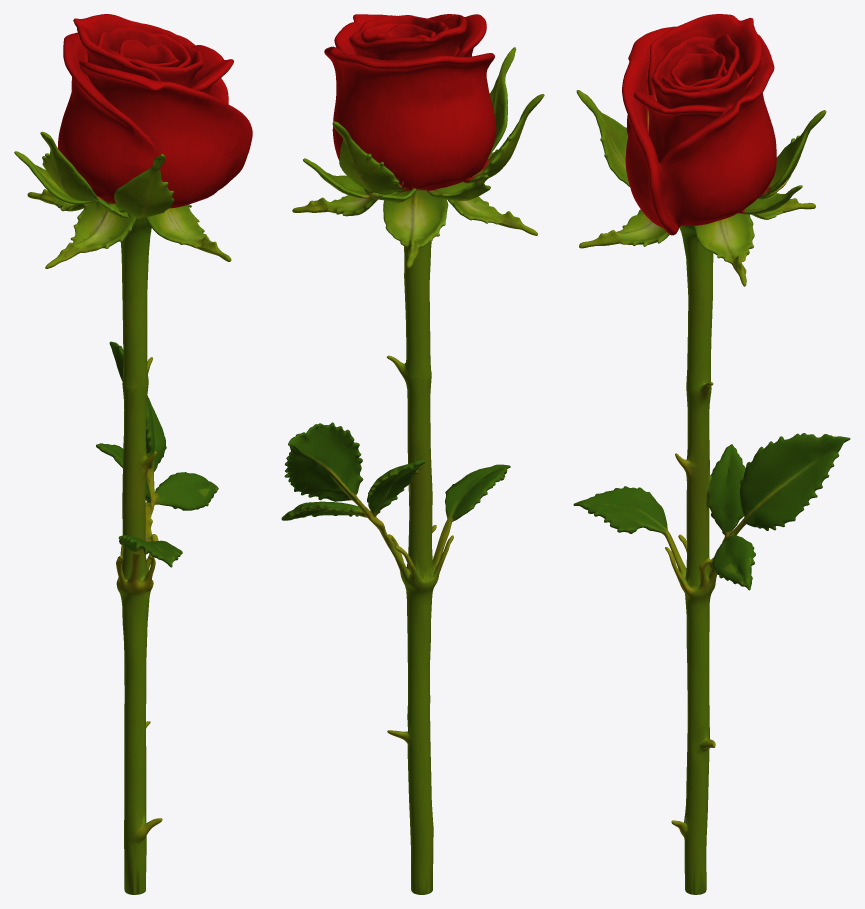
Rendered from Red Rose2.glb.
3 views of the same model, side by side, from view 1: azimuth 30°, elevation 25°; view 2: azimuth 150°, elevation 25°; view 3: azimuth 270°, elevation 25° (orthographic). The views are drawn at different scales.
Visible parts, largest first — view 1: tripo_node_8d5c123f-f80b-47db-80fb-46eca3c8ee9a; view 2: tripo_node_8d5c123f-f80b-47db-80fb-46eca3c8ee9a; view 3: tripo_node_8d5c123f-f80b-47db-80fb-46eca3c8ee9a.
Part boxes in pixels (<box>): tripo_node_8d5c123f-f80b-47db-80fb-46eca3c8ee9a: <box>14,14,252,894</box>; tripo_node_8d5c123f-f80b-47db-80fb-46eca3c8ee9a: <box>281,14,544,894</box>; tripo_node_8d5c123f-f80b-47db-80fb-46eca3c8ee9a: <box>573,14,850,894</box>.
Bounding box in the file's own units: 0.2642 × 1 × 0.2929.
Materials: 1 (1 with a texture image).
